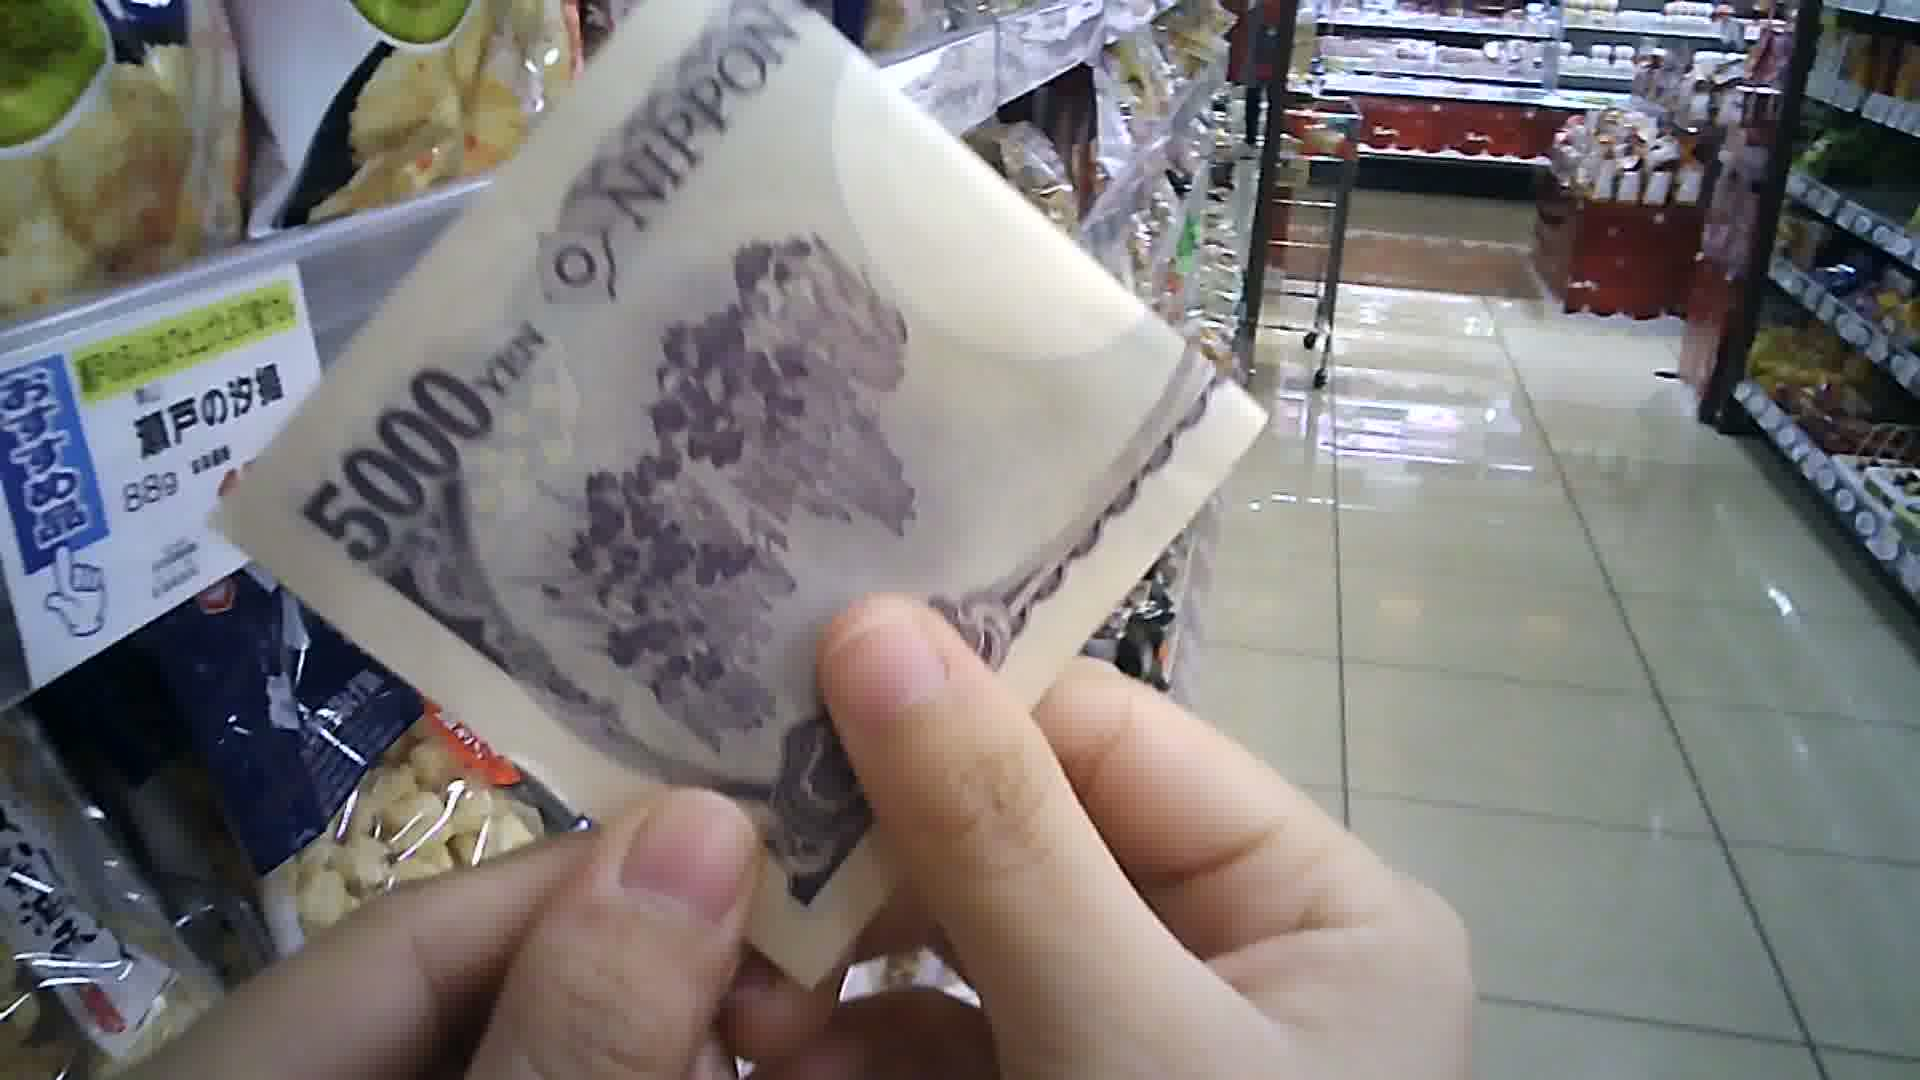5,000 Yen: (219, 11, 1261, 1000)
